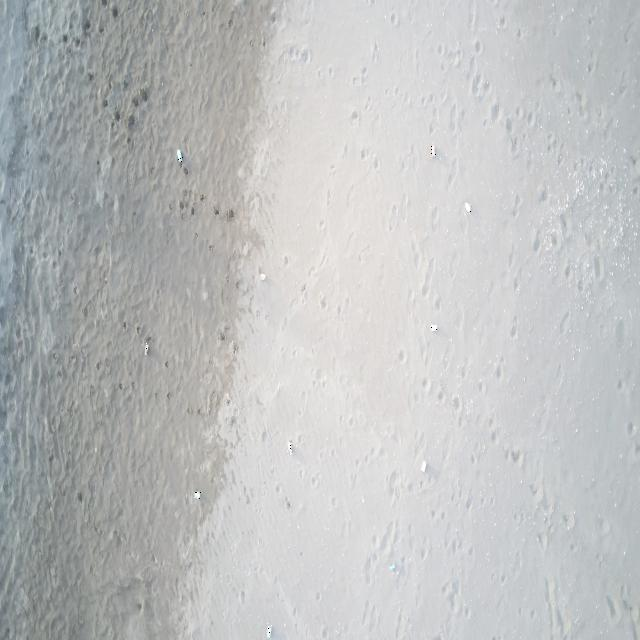tin-and-aluminum-cans: (420, 459, 428, 474), (266, 622, 273, 638), (464, 201, 472, 215), (143, 342, 150, 357), (287, 440, 293, 457), (177, 148, 183, 164), (193, 489, 201, 500), (430, 143, 436, 157), (430, 322, 438, 332), (260, 271, 266, 282), (389, 562, 395, 570)
